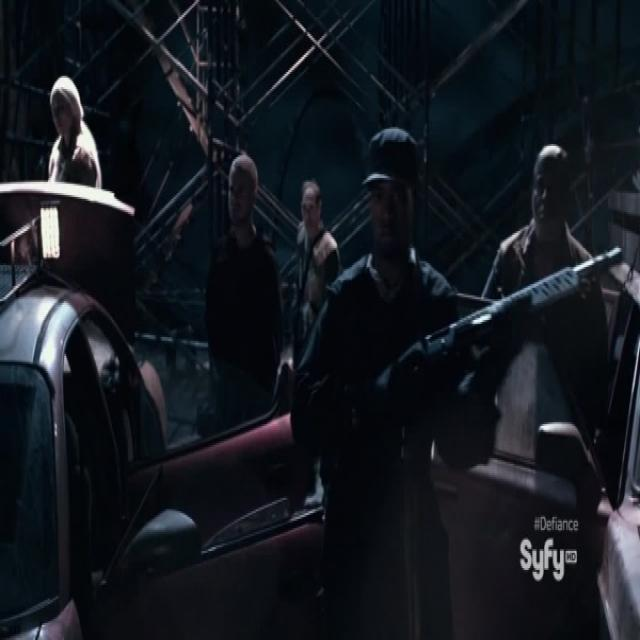rifle: (384, 244, 626, 392)
